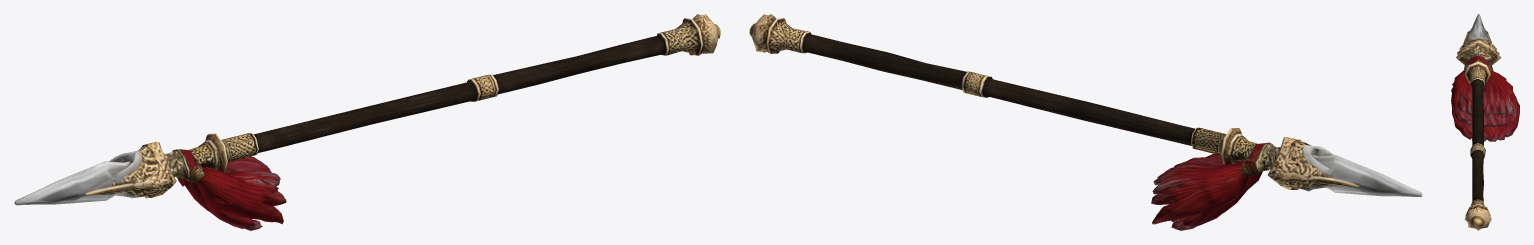
Rendered from machao_spear.glb.
The picture shows the model from 3 angles, left to right: view 1: azimuth 30°, elevation 25°; view 2: azimuth 150°, elevation 25°; view 3: azimuth 270°, elevation 25°; orthographic projection. The views are drawn at different scales.
Visible parts, largest first — view 1: tripo_node_164c2890-d382-4dd9-9b9c-bcee4b7c925c; view 2: tripo_node_164c2890-d382-4dd9-9b9c-bcee4b7c925c; view 3: tripo_node_164c2890-d382-4dd9-9b9c-bcee4b7c925c.
Boxes of the visible parts, x1,y1,x2,y2 form: tripo_node_164c2890-d382-4dd9-9b9c-bcee4b7c925c: (14, 14, 720, 230); tripo_node_164c2890-d382-4dd9-9b9c-bcee4b7c925c: (749, 14, 1422, 230); tripo_node_164c2890-d382-4dd9-9b9c-bcee4b7c925c: (1451, 14, 1519, 230).
Size of the model in its own units: 0.998 by 0.1504 by 0.1387.
Materials: 1 (1 with a texture image).
